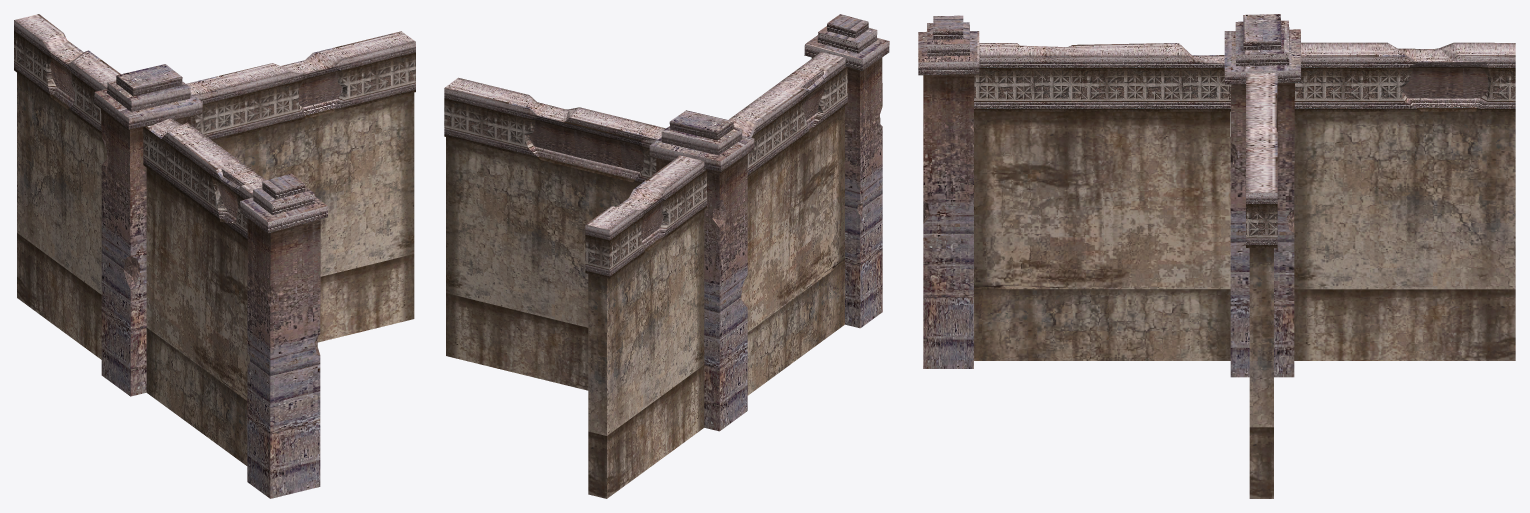
The model's file is MWalB5.glb.
3 renders of one model, left to right at view 1: azimuth 30°, elevation 25°; view 2: azimuth 150°, elevation 25°; view 3: azimuth 270°, elevation 25°, orthographic. The views are drawn at different scales.
Visible parts, largest first — view 1: _MWalB5; view 2: _MWalB5; view 3: _MWalB5.
Part boxes in pixels (x1,y1,x2,y2): _MWalB5: (14, 14, 415, 498); _MWalB5: (444, 14, 889, 498); _MWalB5: (918, 14, 1515, 498).
Bounding box in the file's own units: 4.46 × 4.34 × 7.06.
2 materials, 2 textured.
